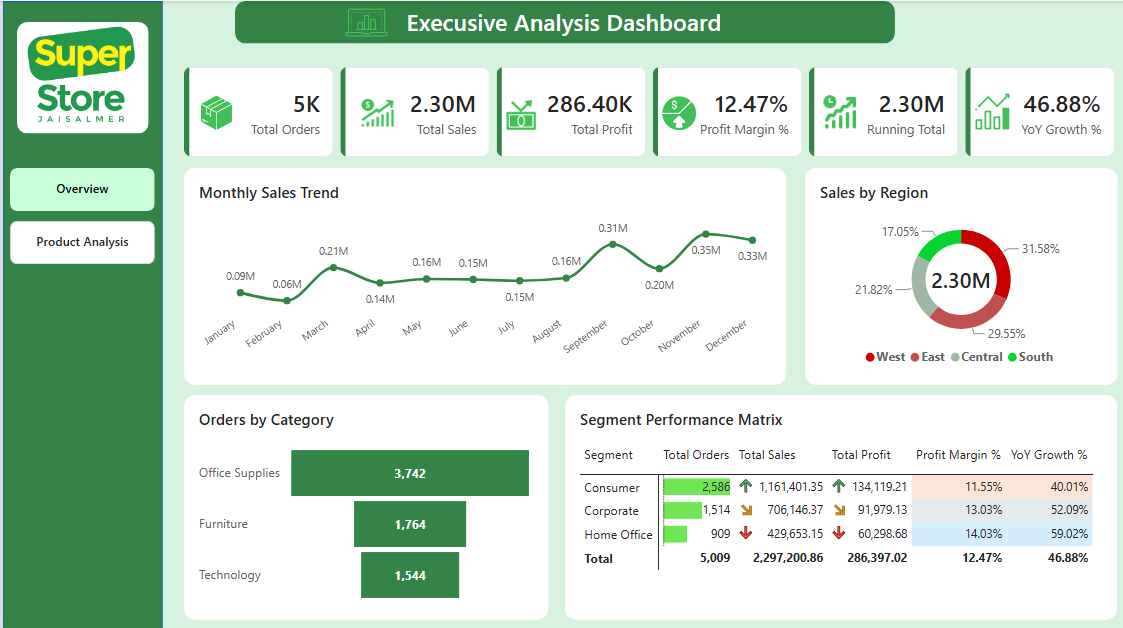

Layout of this report page (visuals, bound fields, positions):
{"tool":"powerbi","page":{"name":"Overview","canvas":[1280,720],"ordinal":0},"visuals":[{"type":"shape","box":[264.1,0,751.8,48.5],"z":0},{"type":"shape","box":[0,0,181.9,719.5],"z":1000},{"type":"image","box":[16.2,24.3,149.6,126.7],"z":2000},{"type":"textbox","box":[288.3,5.4,702,37.7],"z":3000},{"type":"cardVisual","fields":{"Data":["DAX Measures.Total Orders","DAX Measures.Total Sales","DAX Measures.Total Profit","DAX Measures.Profit Margin %","DAX Measures.Running Total","DAX Measures.YoY Growth %"]},"box":[206.1,75.5,1063.1,102.4],"z":4000},{"type":"lineChart","title":"Monthly Sales Trend","fields":{"Category":["Dim Date.Order Date.Variation.Date Hierarchy.Month"],"Y":["DAX Measures.Total Sales"]},"box":[206.1,190,685.8,246.6],"z":5000},{"type":"donutChart","title":"Sales by Region","fields":{"Category":["Fact Orders.Region"],"Y":["DAX Measures.Total Sales"]},"box":[913.5,190,355.7,246.6],"z":6000},{"type":"funnel","title":"Orders by Category","fields":{"Category":["Dim Products.Category"],"Y":["DAX Measures.Total Orders"]},"box":[206.1,448.7,415,256],"z":7000},{"type":"pivotTable","title":"Segment Performance Matrix","fields":{"Rows":["Dim Customers.Segment"],"Values":["DAX Measures.Total Orders","DAX Measures.Total Sales","DAX Measures.Total Profit","DAX Measures.Profit Margin %","DAX Measures.YoY Growth %"]},"box":[640,448.7,629.2,256],"z":8000},{"type":"pageNavigator","box":[8.1,190,165.7,49.9],"z":9000},{"type":"pageNavigator","box":[8.1,250.6,165.7,49.9],"z":10000},{"type":"image","box":[373.2,0,80.8,48.5],"z":10001},{"type":"image","box":[931,99.7,47.2,53.9],"z":10002},{"type":"image","box":[1103.5,105.1,47.2,41.8],"z":10003},{"type":"image","box":[747.8,106.4,45.8,44.5],"z":10004},{"type":"image","box":[569.9,106.4,41.8,47.2],"z":10005},{"type":"image","box":[402.9,106.4,47.2,44.5],"z":10006},{"type":"image","box":[222.3,99.7,41.8,53.9],"z":10007}]}

Visuals, with their boxes in screenshot pixels (x1, y1, x2, y2), scaled from the page's 1280x720 canvas onto the 1123x628 screenshot:
shape: <box>232,0,891,42</box>
shape: <box>0,0,160,627</box>
image: <box>14,21,145,132</box>
textbox: <box>253,5,869,38</box>
cardVisual - DAX Measures.Total Orders x DAX Measures.Total Sales: <box>181,66,1114,155</box>
"Monthly Sales Trend" lineChart: <box>181,166,783,381</box>
"Sales by Region" donutChart: <box>801,166,1114,381</box>
"Orders by Category" funnel: <box>181,391,545,615</box>
"Segment Performance Matrix" pivotTable: <box>562,391,1114,615</box>
pageNavigator: <box>7,166,152,209</box>
pageNavigator: <box>7,219,152,262</box>
image: <box>327,0,398,42</box>
image: <box>817,87,858,134</box>
image: <box>968,92,1010,128</box>
image: <box>656,93,696,132</box>
image: <box>500,93,537,134</box>
image: <box>353,93,395,132</box>
image: <box>195,87,232,134</box>
